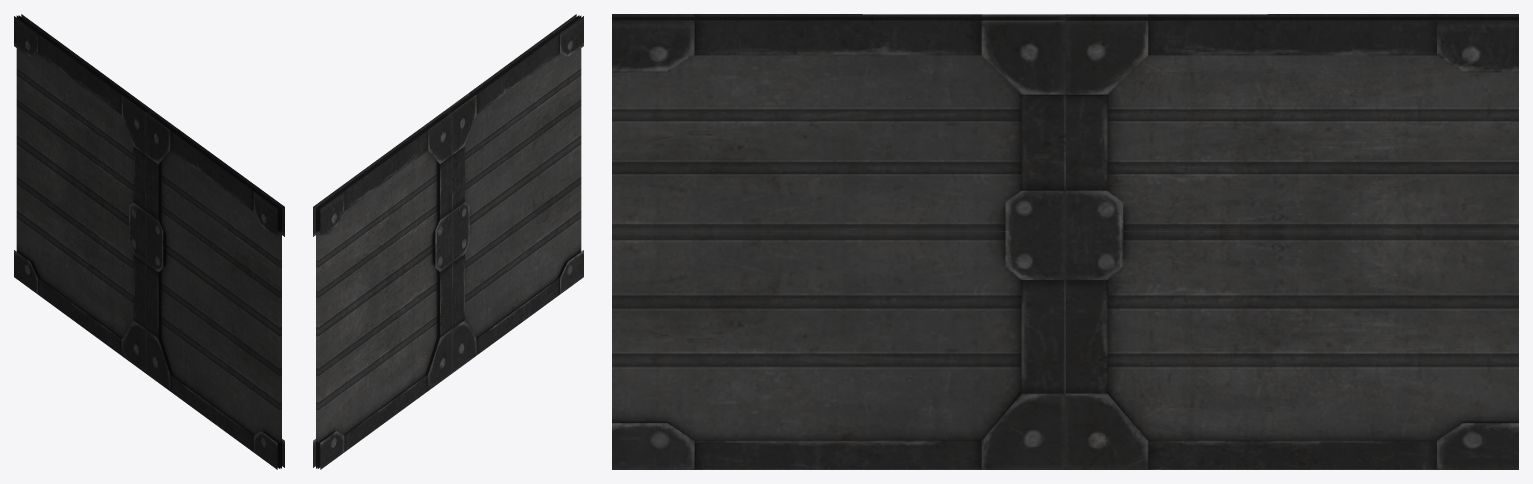
File: p6_metal_panel_railing_64_lod1.glb
The picture shows the model from 3 angles, left to right: view 1: azimuth 30°, elevation 25°; view 2: azimuth 150°, elevation 25°; view 3: azimuth 270°, elevation 25°; orthographic projection. The views are drawn at different scales.
Visible parts, largest first — view 1: surf0; view 2: surf0; view 3: surf0.
Boxes of the visible parts, x1,y1,x2,y2 form: surf0: (14,14,284,469); surf0: (313,14,583,469); surf0: (612,14,1518,469).
Bounding box in the file's own units: 1.04 × 35.03 × 64.
